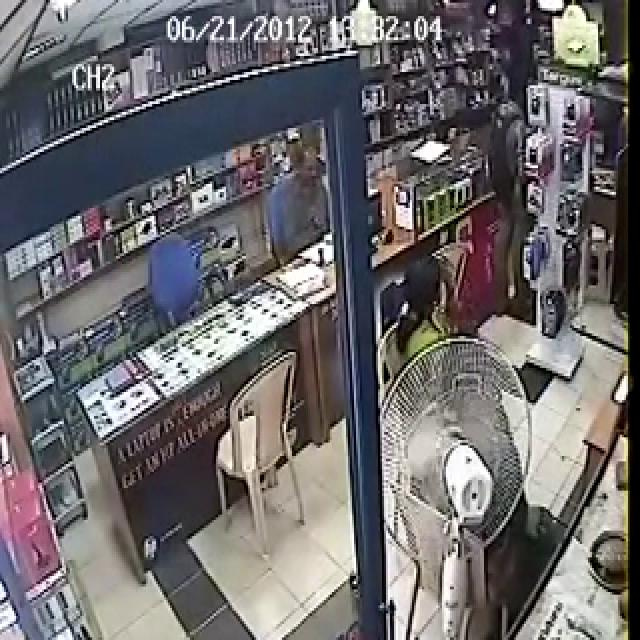shoplifting: (322, 47, 640, 640)
